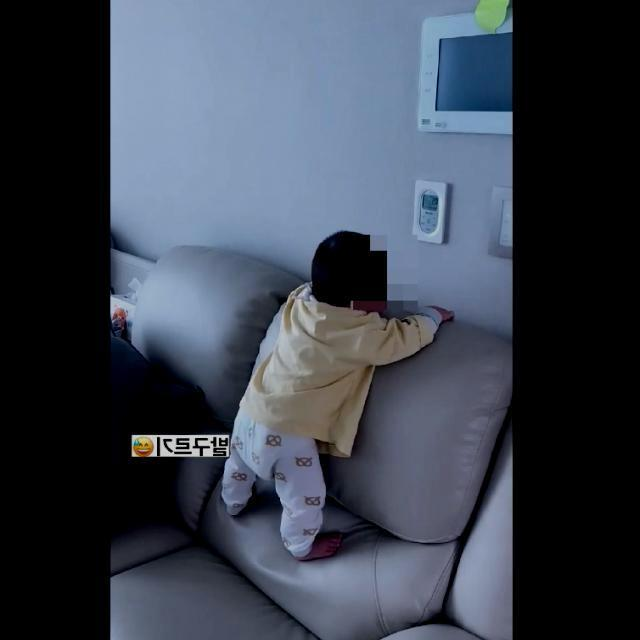child: (219, 225, 454, 560)
